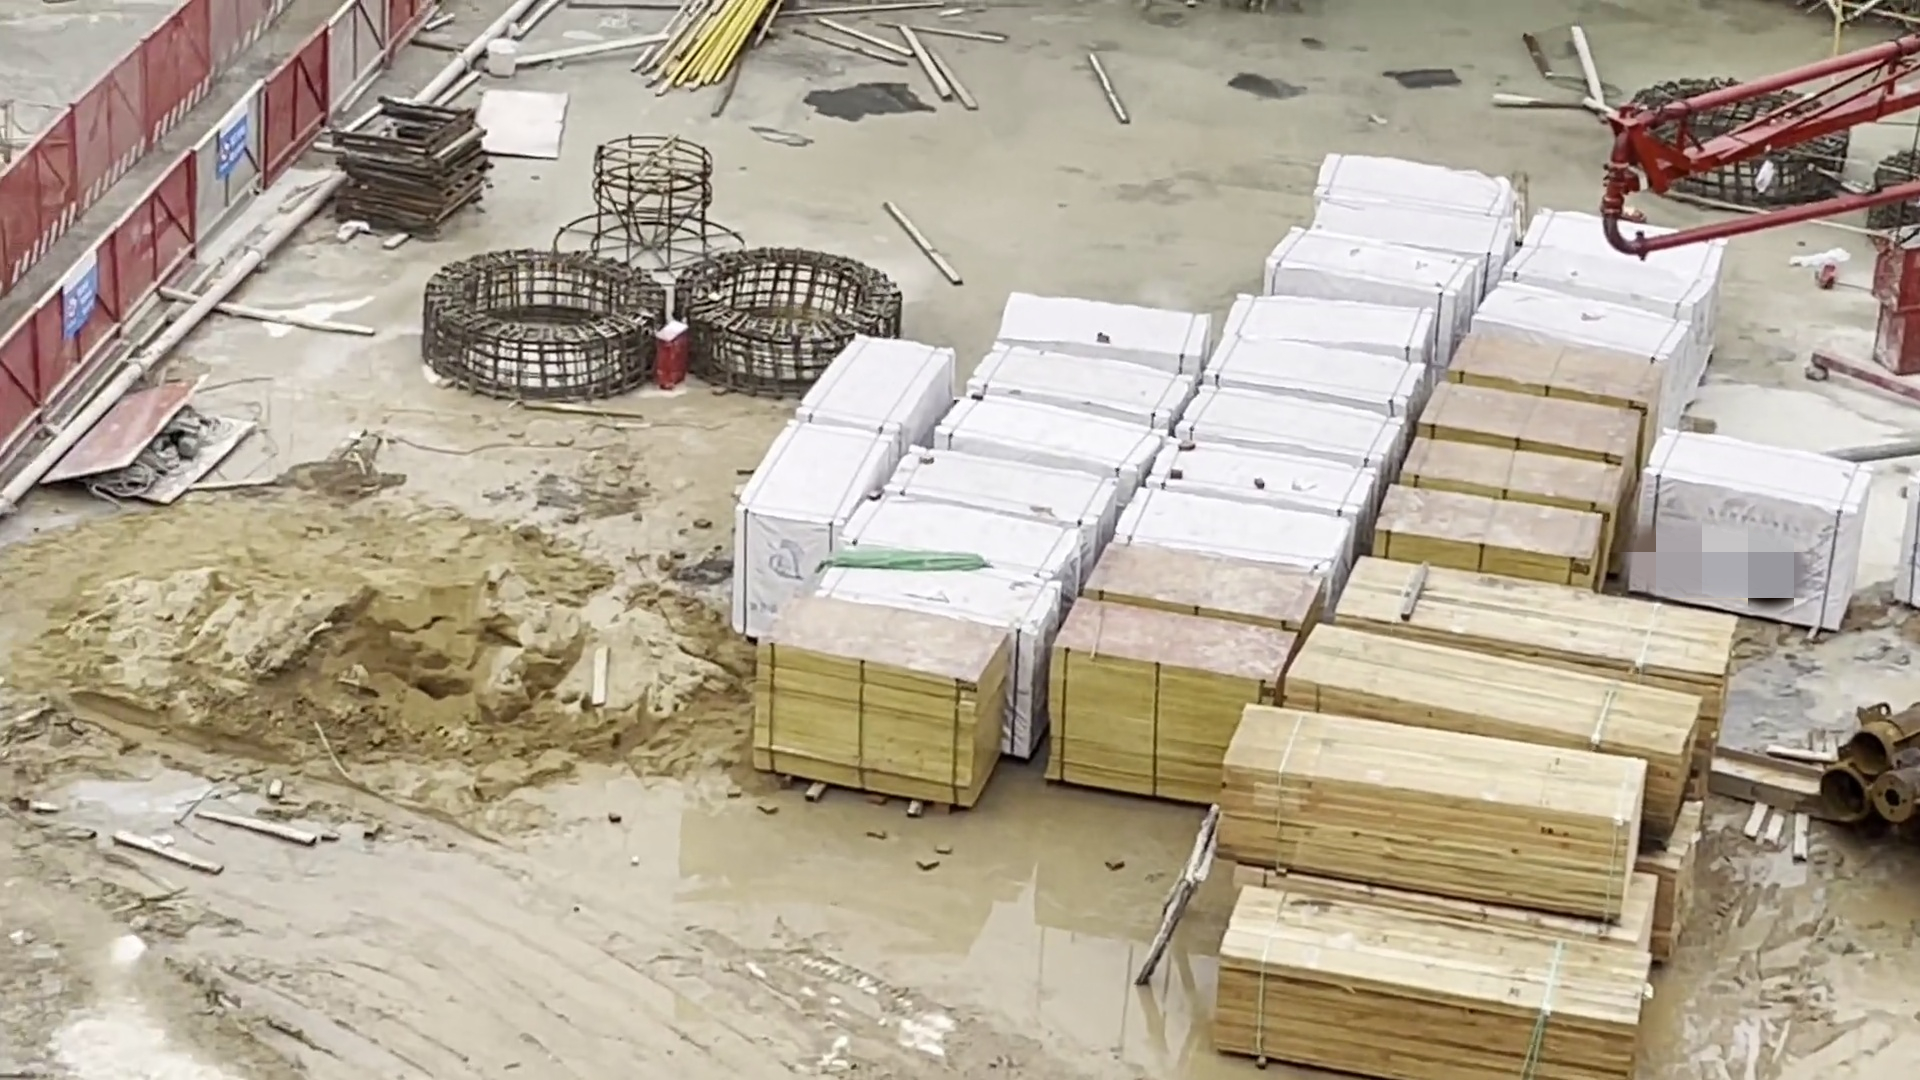fence: (15, 4, 375, 430)
slogan: (45, 245, 135, 323), (204, 102, 293, 173)
wood: (1211, 702, 1618, 924), (1211, 880, 1646, 1080), (1292, 636, 1722, 802), (1033, 592, 1295, 822), (746, 603, 1002, 823), (1341, 551, 1735, 680), (1373, 475, 1610, 585), (1084, 535, 1325, 644), (1420, 373, 1673, 458), (1453, 332, 1672, 411), (1408, 436, 1647, 509)
